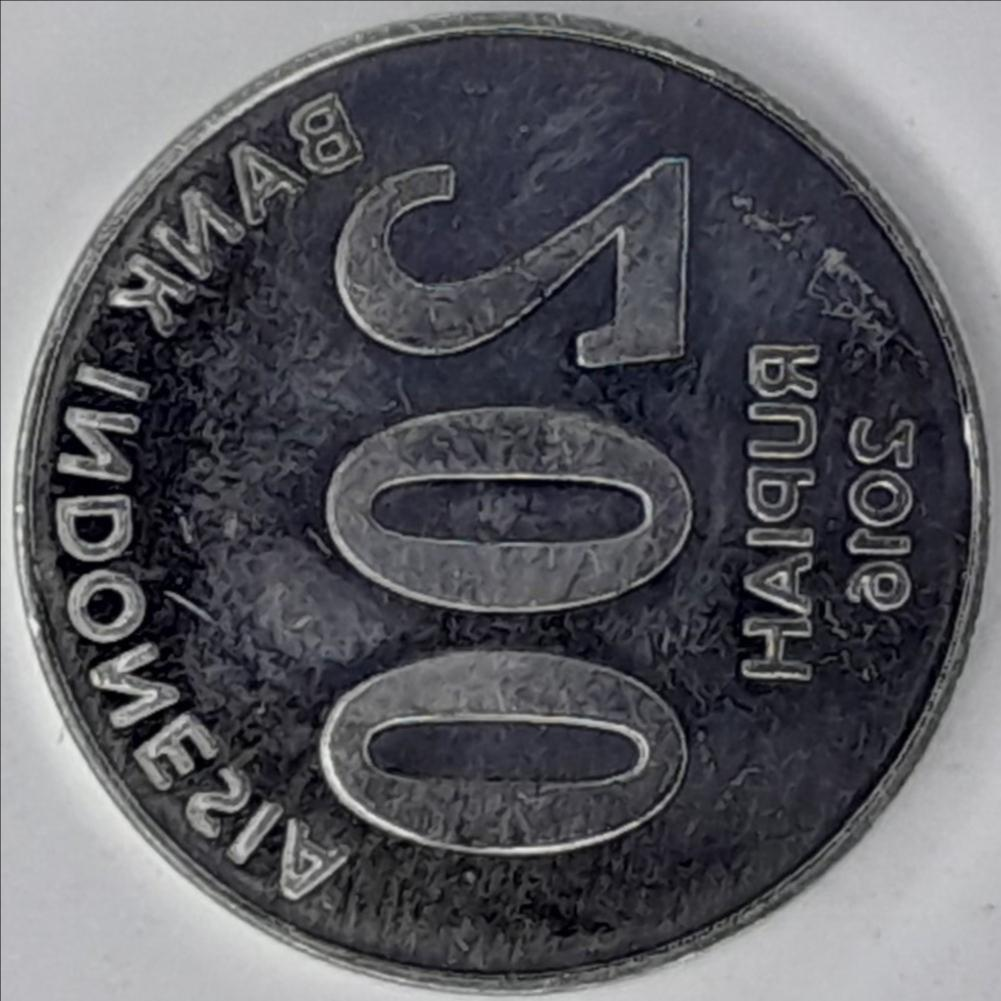coin_200_e2016: (0, 17, 1001, 1001)
